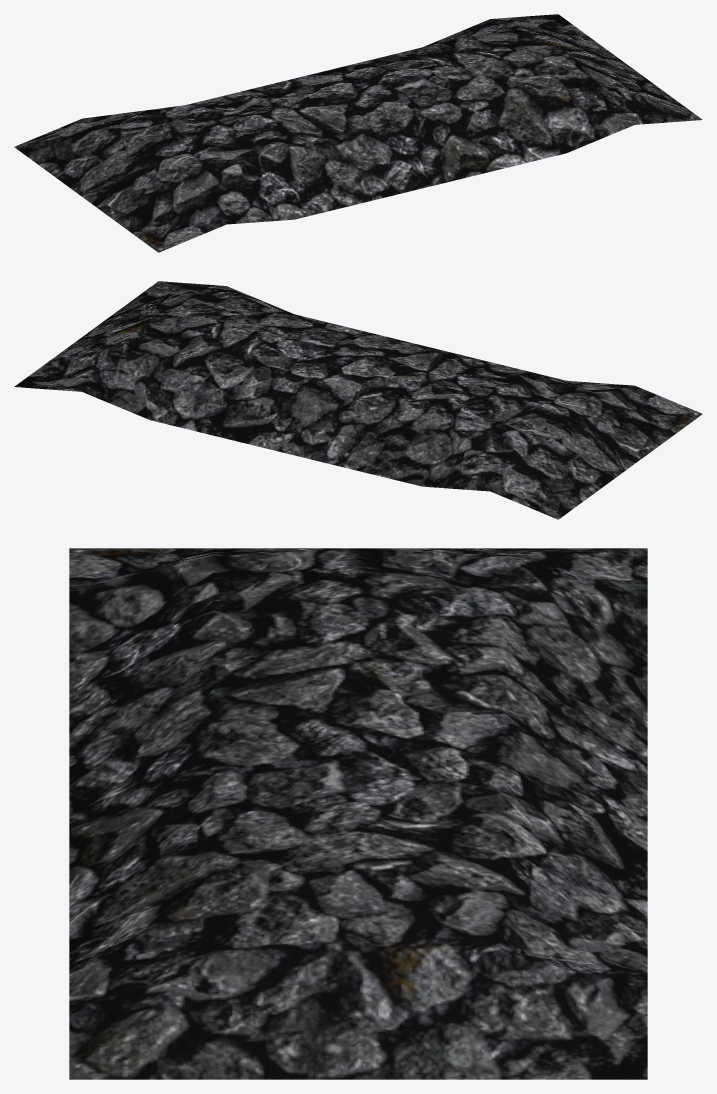
Rendered from locomotive-01-wagon-02-ore-01.fbx.
3 renders of one model, top to bottom at view 1: azimuth 30°, elevation 25°; view 2: azimuth 150°, elevation 25°; view 3: azimuth 270°, elevation 25°, orthographic. The views are drawn at different scales.
Parts seen in each view (by area): view 1: Cube.009_Mesh.000; view 2: Cube.009_Mesh.000; view 3: Cube.009_Mesh.000.
Part boxes in pixels (x1=…): Cube.009_Mesh.000: x1=14, y1=14, x2=702, y2=252; Cube.009_Mesh.000: x1=14, y1=281, x2=702, y2=519; Cube.009_Mesh.000: x1=69, y1=548, x2=647, y2=1079.
Bounding box in the file's own units: 3.97 × 0.2976 × 1.83.
